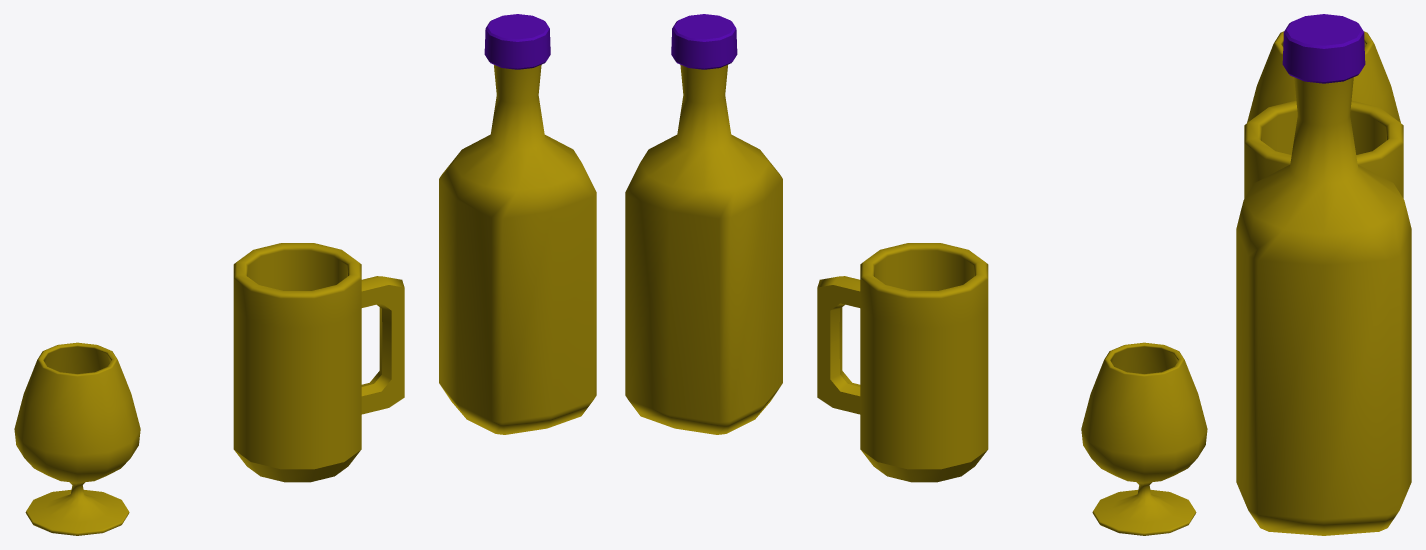
Rendered from Atlas2.fbx.
3 views of the same model, side by side, from view 1: azimuth 30°, elevation 25°; view 2: azimuth 150°, elevation 25°; view 3: azimuth 270°, elevation 25° (orthographic). The views are drawn at different scales.
Parts seen in each view (by area): view 1: Sise, Bardak2, Bardak1; view 2: Sise, Bardak2, Bardak1; view 3: Sise, Bardak2, Bardak1.
Boxes of the visible parts, left/top/right/bottom form: Sise: left=439, top=14, right=596, bottom=434; Bardak2: left=233, top=243, right=404, bottom=482; Bardak1: left=14, top=342, right=140, bottom=535; Sise: left=625, top=14, right=782, bottom=434; Bardak2: left=817, top=243, right=988, bottom=482; Bardak1: left=1081, top=342, right=1207, bottom=535; Sise: left=1236, top=14, right=1411, bottom=535; Bardak2: left=1244, top=100, right=1403, bottom=198; Bardak1: left=1247, top=31, right=1400, bottom=122.
Bounding box in the file's own units: 63.11 × 41.28 × 13.79.
